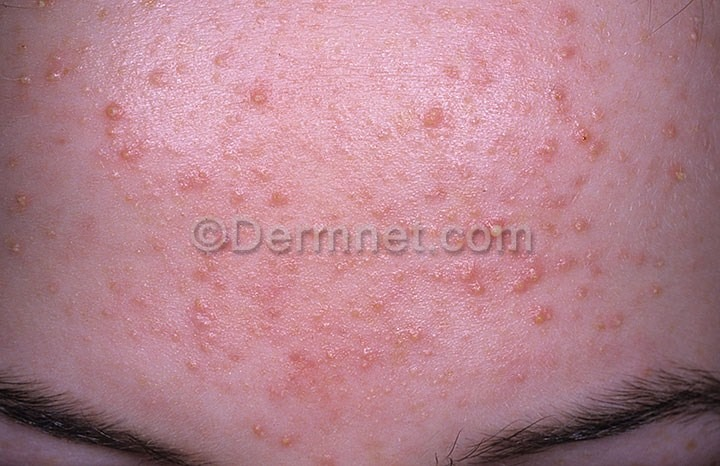Acne: (5, 12, 700, 390)
